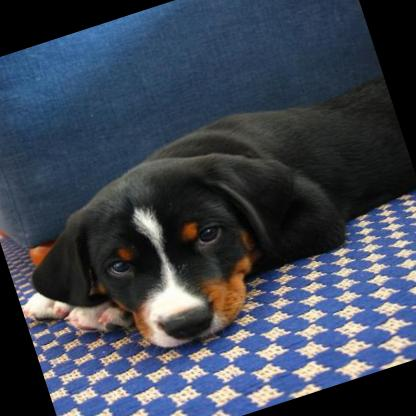Appenzeller: (0, 69, 416, 388)
